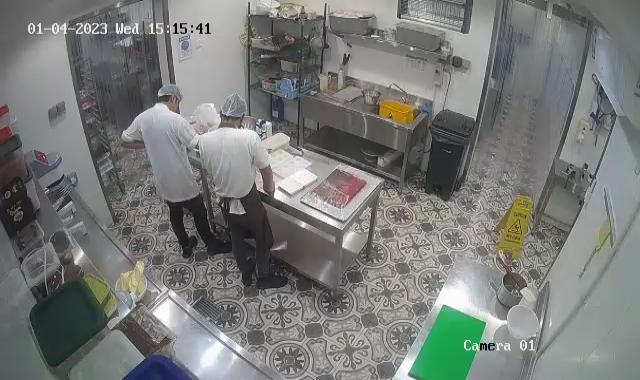hairnet: (220, 91, 247, 124), (158, 82, 182, 105)
